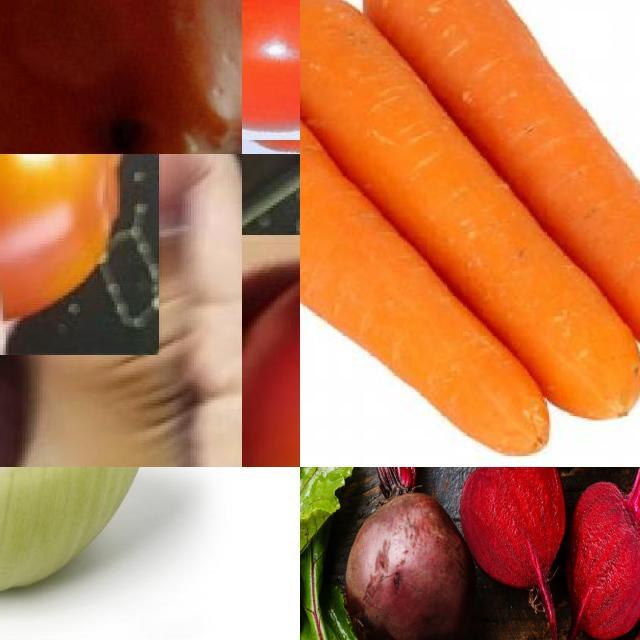beet: (349, 498, 468, 640), (462, 468, 566, 588), (573, 476, 640, 640)
carrot: (301, 1, 640, 426), (301, 36, 554, 462), (365, 1, 640, 375)
onion: (1, 468, 169, 605)
tomato: (1, 155, 163, 353), (243, 1, 301, 155)
